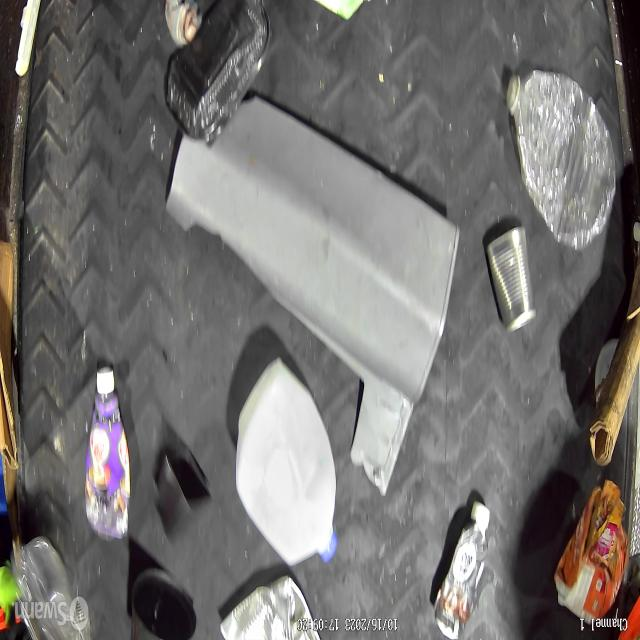can: (488, 227, 534, 333)
milk_jug: (237, 374, 337, 560)
plastic_bottle: (513, 78, 617, 246)
